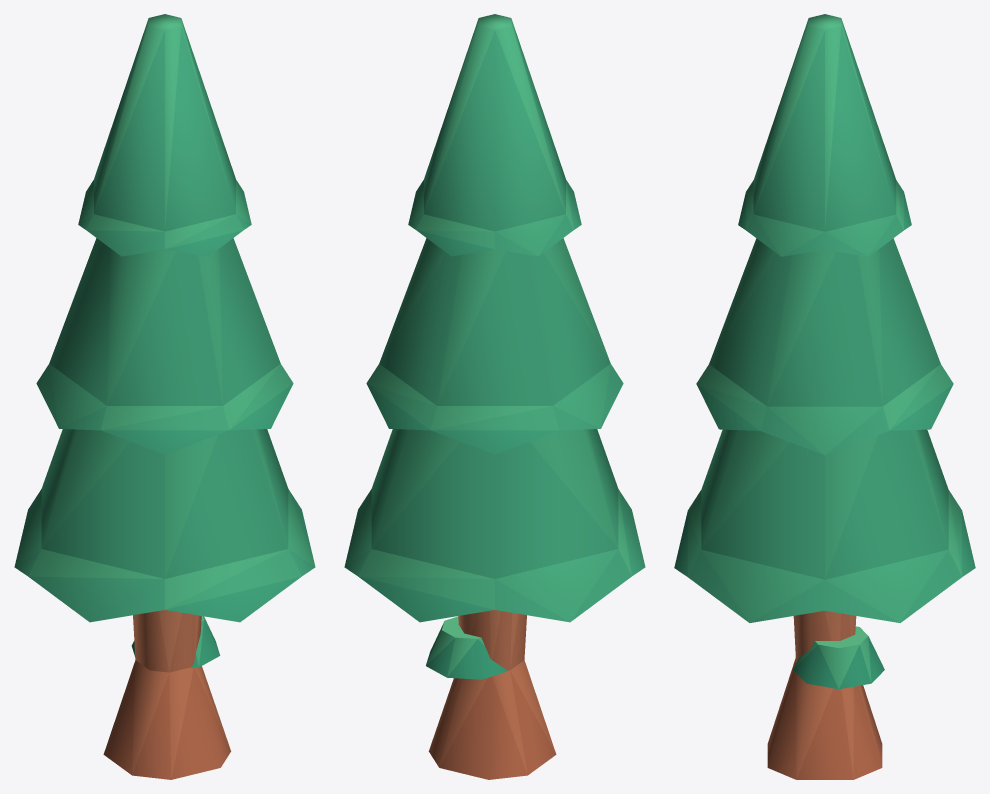
File: tree.glb
The picture shows the model from 3 angles, left to right: view 1: azimuth 30°, elevation 25°; view 2: azimuth 150°, elevation 25°; view 3: azimuth 270°, elevation 25°; orthographic projection.
Parts seen in each view (by area): view 1: c3ca579, c41ab7b, c47b17e, cbc6a49, c37a177, cc77450, cd37d58, cdf8860, c329c74; view 2: c3ca579, c41ab7b, c47b17e, cbc6a49, c37a177, cc77450, cd37d58, c329c74, cdf8860; view 3: c3ca579, c41ab7b, c47b17e, cbc6a49, c37a177, cc77450, c329c74, cd37d58, cdf8860.
Boxes of the visible parts, bbox=[...] form: c3ca579: bbox=[14, 20, 315, 622]; c41ab7b: bbox=[14, 180, 315, 609]; c47b17e: bbox=[28, 19, 287, 666]; cbc6a49: bbox=[103, 661, 230, 779]; c37a177: bbox=[101, 230, 301, 622]; cc77450: bbox=[132, 660, 230, 778]; cd37d58: bbox=[135, 611, 201, 672]; cdf8860: bbox=[133, 610, 198, 671]; c329c74: bbox=[131, 620, 220, 667]; c3ca579: bbox=[344, 20, 645, 622]; c41ab7b: bbox=[344, 180, 618, 621]; c47b17e: bbox=[358, 18, 631, 677]; cbc6a49: bbox=[429, 671, 556, 779]; c37a177: bbox=[358, 230, 558, 622]; cc77450: bbox=[429, 660, 555, 774]; cd37d58: bbox=[458, 611, 526, 670]; c329c74: bbox=[426, 632, 507, 679]; cdf8860: bbox=[461, 610, 518, 668]; c3ca579: bbox=[688, 21, 961, 622]; c41ab7b: bbox=[688, 180, 961, 622]; c47b17e: bbox=[688, 18, 961, 688]; cbc6a49: bbox=[767, 672, 882, 779]; c37a177: bbox=[674, 192, 975, 576]; cc77450: bbox=[769, 658, 881, 779]; c329c74: bbox=[793, 636, 884, 689]; cd37d58: bbox=[797, 611, 850, 660]; cdf8860: bbox=[793, 611, 856, 662].
Size of the model in its own units: 0.5529 by 1.41 by 0.5262.
